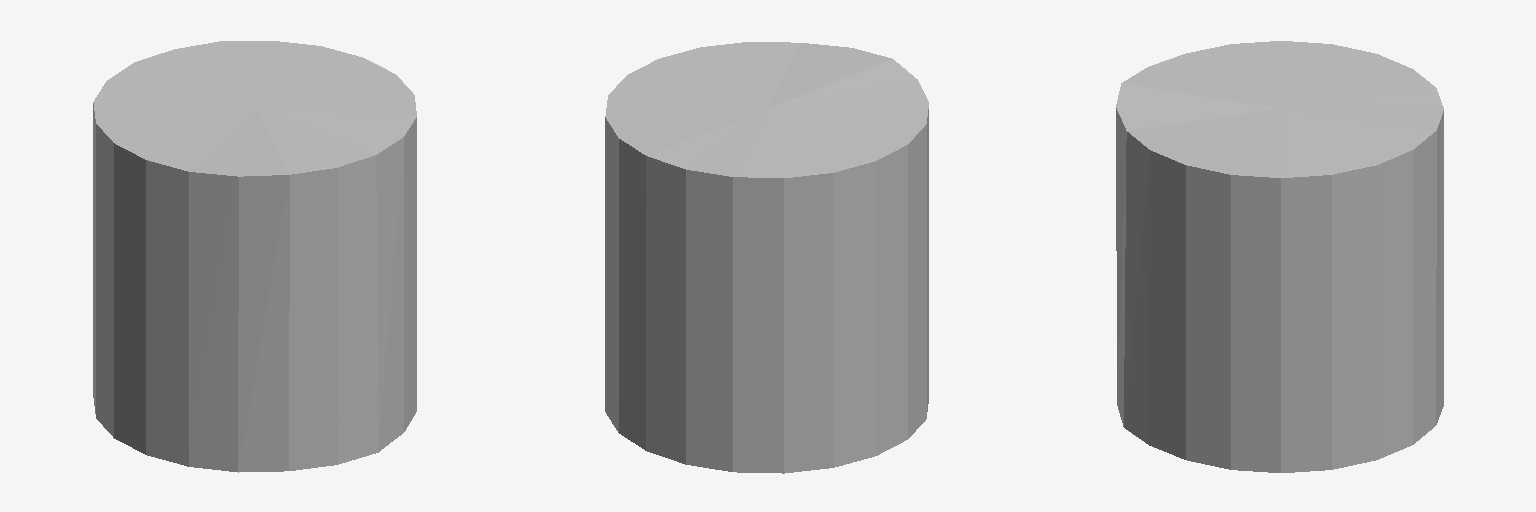
The model's file is body.obj.
3 views of the same model, side by side, from view 1: azimuth 30°, elevation 25°; view 2: azimuth 150°, elevation 25°; view 3: azimuth 270°, elevation 25° (orthographic).
Visible parts, largest first — view 1: pCylinder1; view 2: pCylinder1; view 3: pCylinder1.
Boxes of the visible parts, x1=… form: pCylinder1: x1=93, y1=41, x2=416, y2=472; pCylinder1: x1=605, y1=42, x2=928, y2=473; pCylinder1: x1=1116, y1=41, x2=1443, y2=472.
Size of the model in its own units: 70.32 by 71.66 by 70.94.